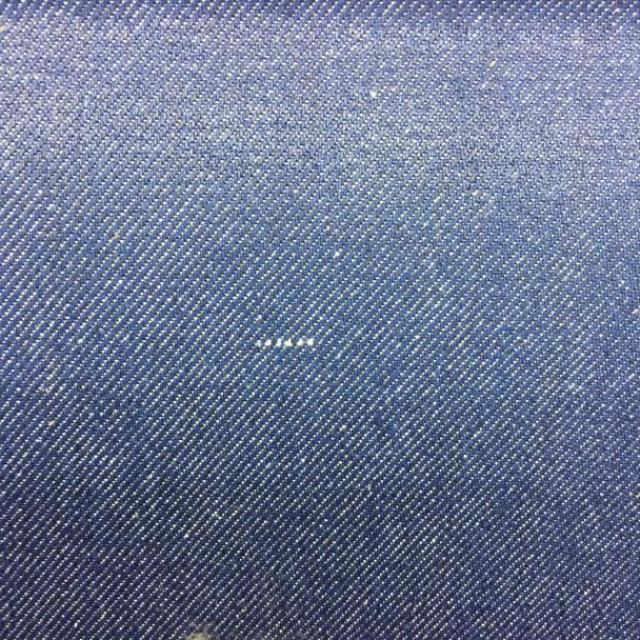Knot: (255, 339, 316, 351)
